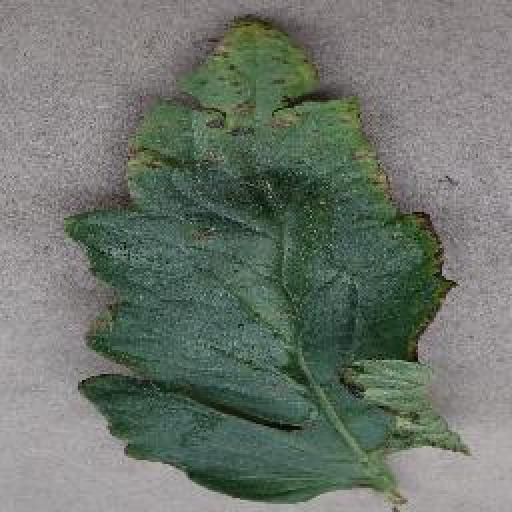Bacterial Spot: (65, 12, 472, 512)
